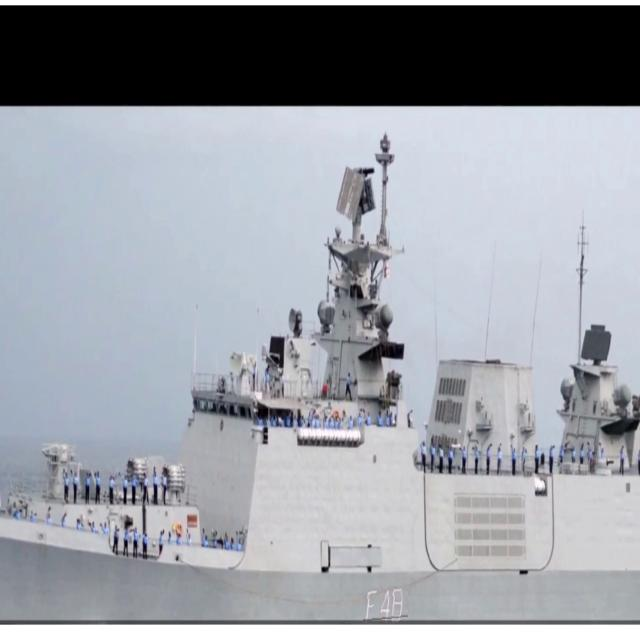OCR: (356, 586, 408, 622)
